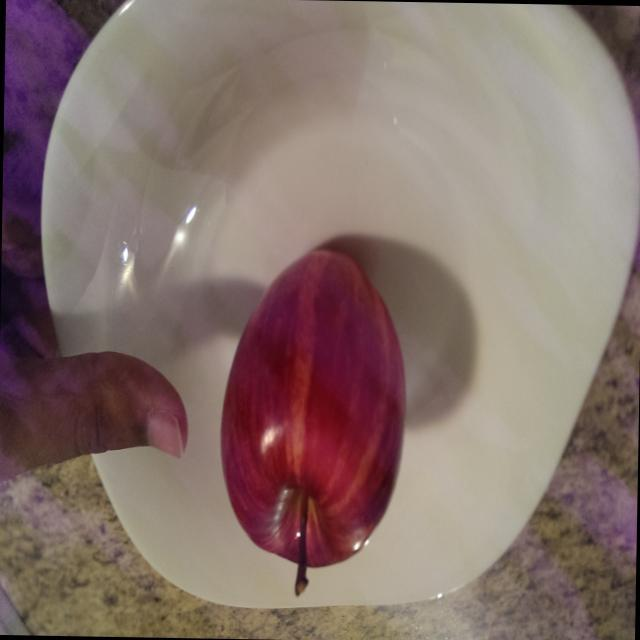Apple: (208, 236, 418, 604)
Finger: (57, 340, 196, 470)
